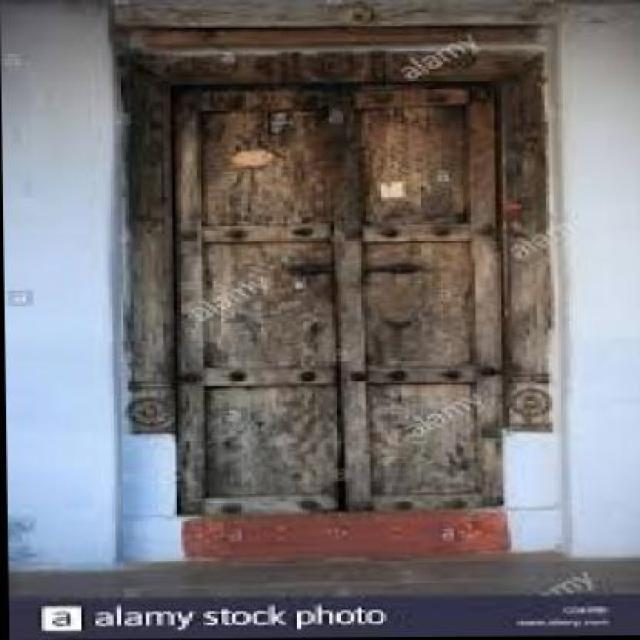door: (168, 82, 502, 514)
